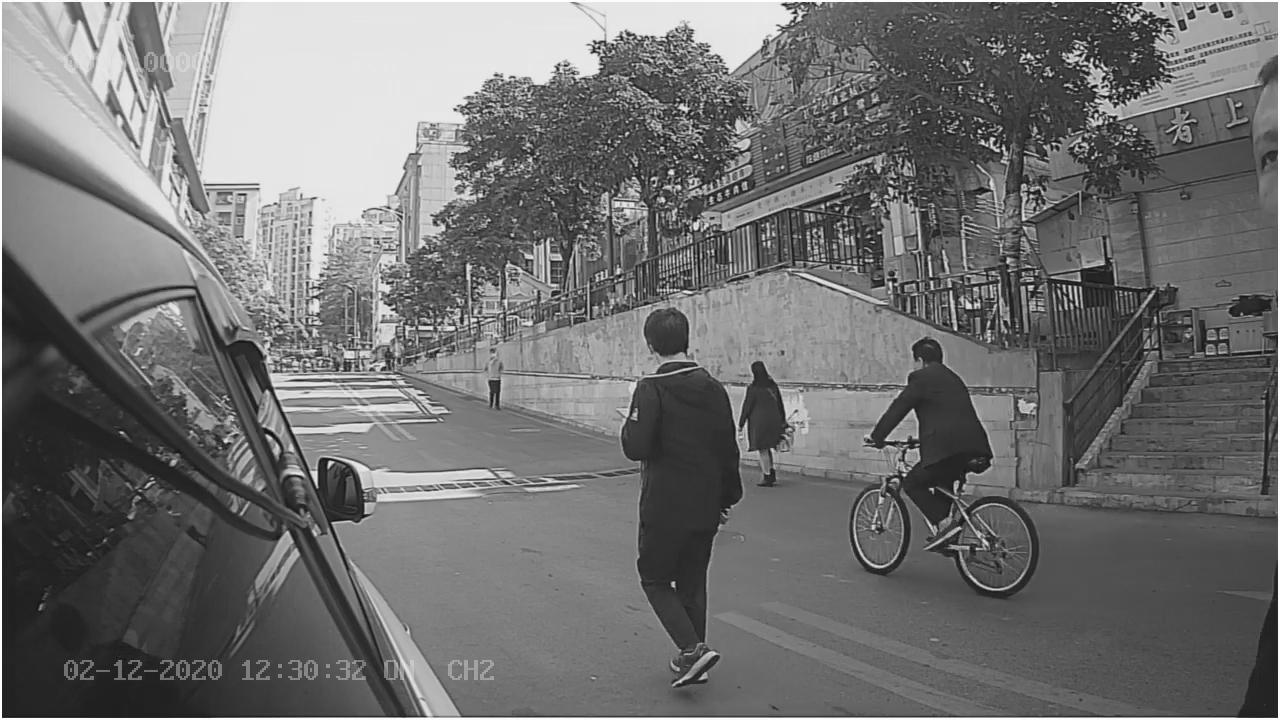person: (613, 304, 748, 691)
